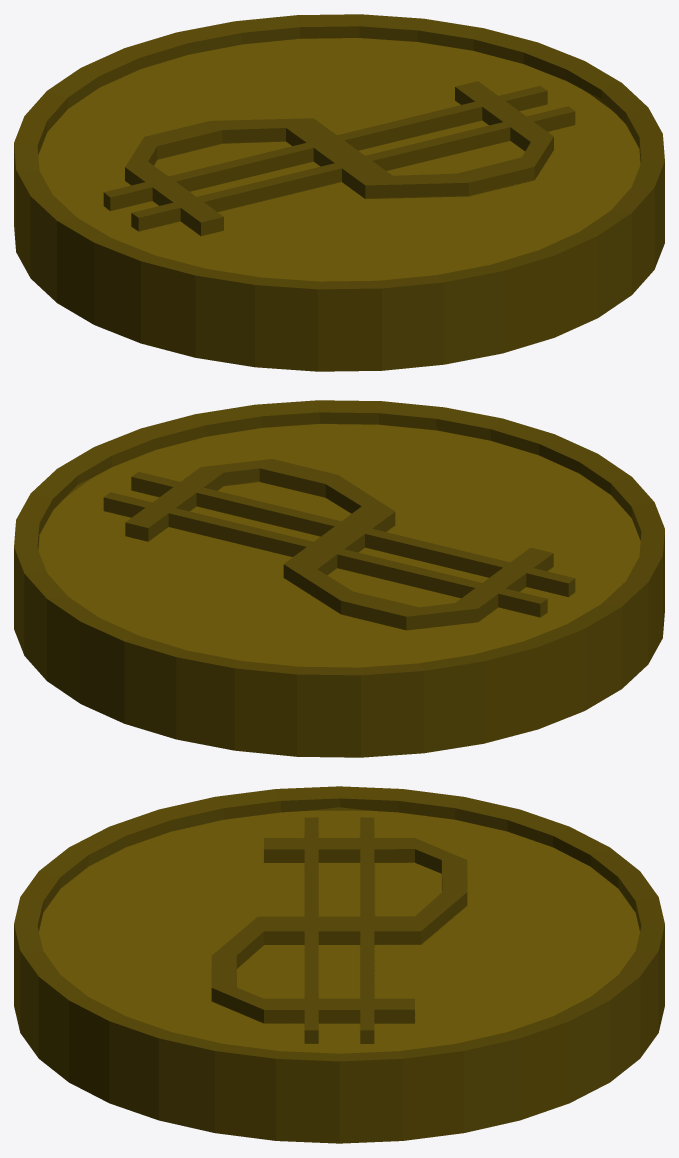
Rendered from Moneda.fbx.
3 renders of one model, top to bottom at view 1: azimuth 30°, elevation 25°; view 2: azimuth 150°, elevation 25°; view 3: azimuth 270°, elevation 25°, orthographic.
Visible parts, largest first — view 1: Circle; view 2: Circle; view 3: Circle.
Boxes of the visible parts, bbox=[...] form: Circle: bbox=[14, 14, 664, 371]; Circle: bbox=[14, 400, 664, 757]; Circle: bbox=[14, 786, 664, 1143].
Size of the model in its own units: 216 by 30.02 by 216.
Materials: 1 (1 with a texture image).
